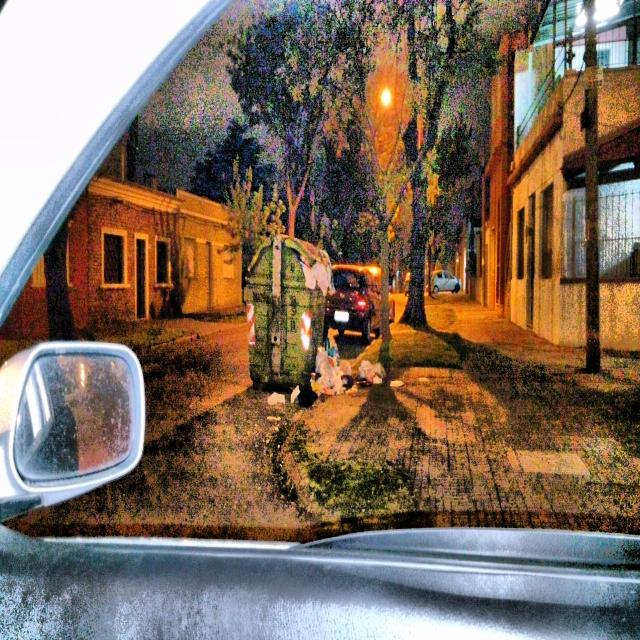garbage: (315, 328, 382, 394)
